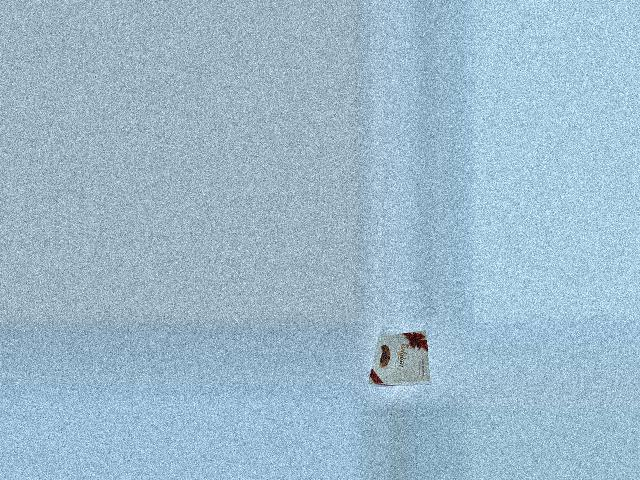chocolate: (365, 329, 428, 398)
